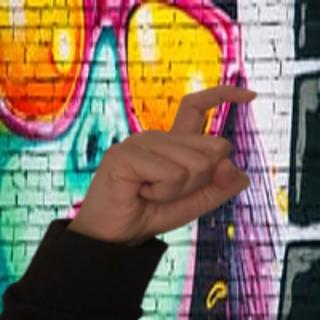WHY: (67, 69, 268, 239)
